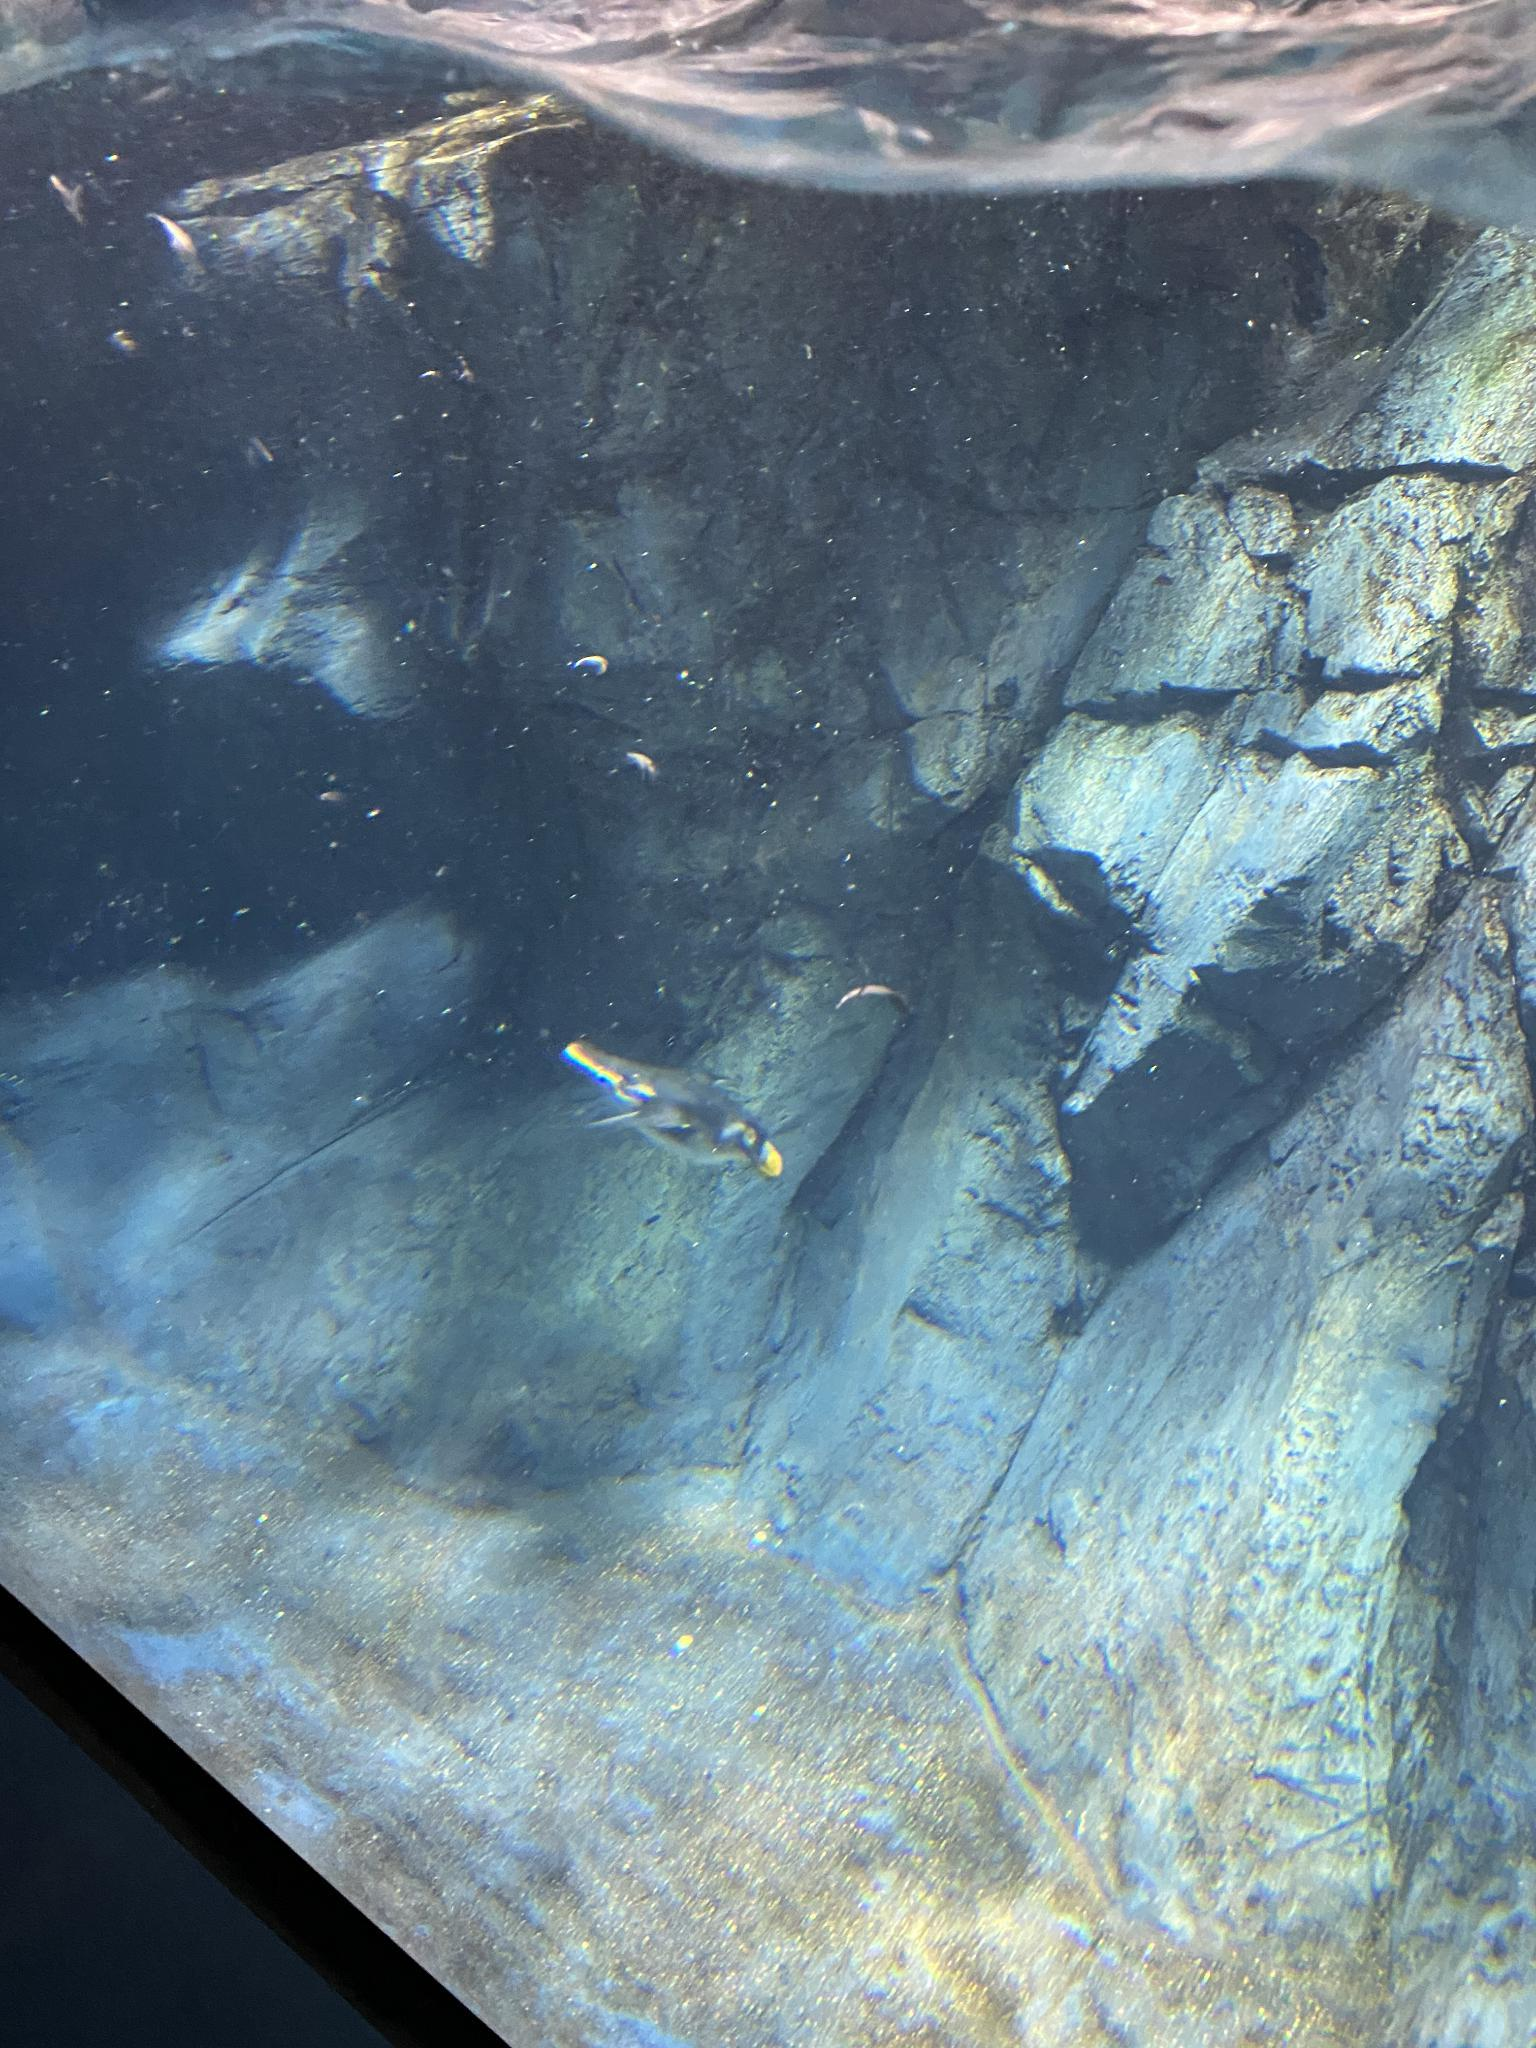puffin: (160, 98, 553, 311), (124, 477, 423, 732), (557, 1035, 787, 1188)
